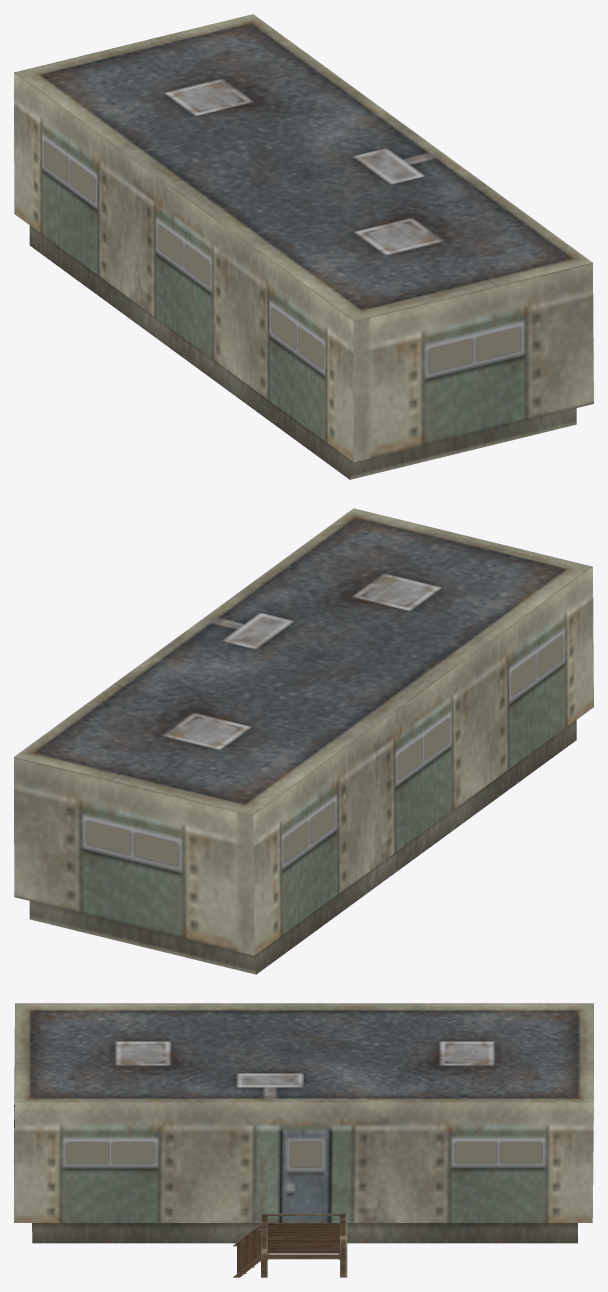
File: portable.glb
The picture shows the model from 3 angles, top to bottom: view 1: azimuth 30°, elevation 25°; view 2: azimuth 150°, elevation 25°; view 3: azimuth 270°, elevation 25°; orthographic projection. The views are drawn at different scales.
Parts seen in each view (by area): view 1: Portable, LitWin_Portable; view 2: Portable, LitWin_Portable; view 3: Portable, LitWin_Portable.
Part boxes in pixels (x1,y1,x2,y2): Portable: (14, 14, 593, 479); LitWin_Portable: (44, 141, 520, 371); Portable: (14, 508, 593, 974); LitWin_Portable: (86, 636, 562, 865); Portable: (14, 1003, 593, 1277); LitWin_Portable: (66, 1142, 541, 1166).
Bounding box in the file's own units: 7.85 × 3.97 × 14.61.
Materials: 1 (1 with a texture image).
